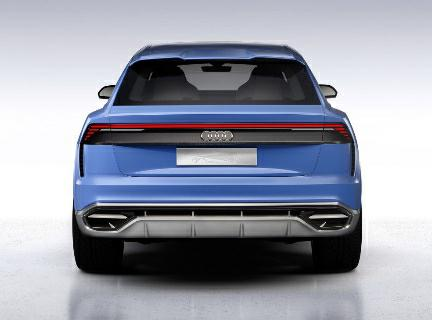奥迪-Q8: (69, 34, 369, 280)
